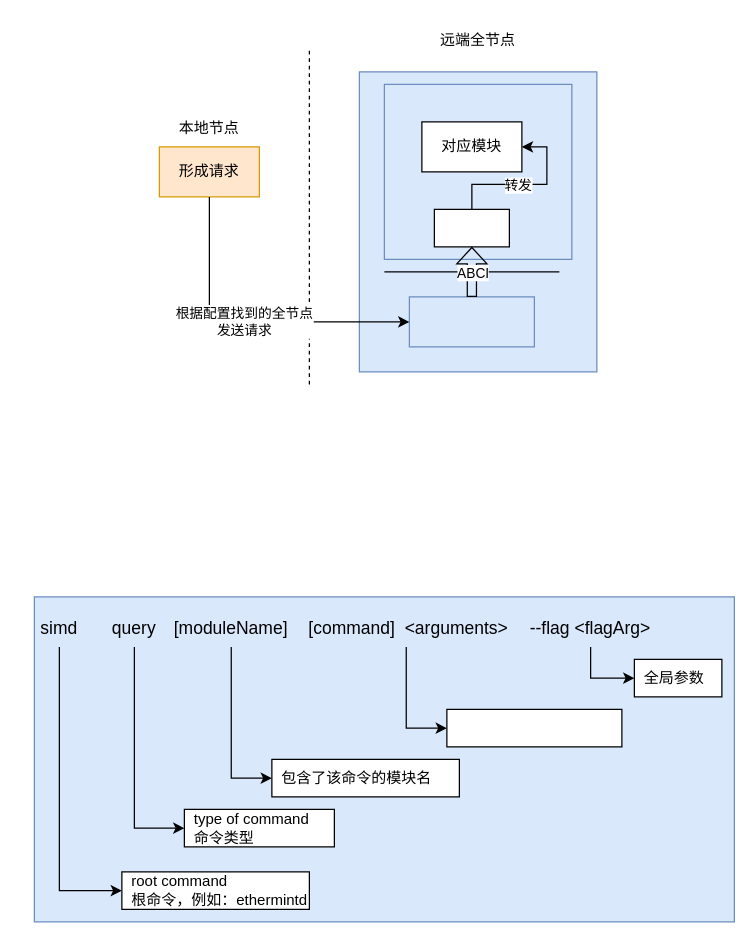
The diagram is 756 pixels wide and 944 high, and some of its shapes have lost their labels. Each missing label, with the centre of its shape:
"BaseApp" belongs at point (471, 227).
"Tendermint Core" belongs at point (471, 321).
"命令，以及命令的参数" belongs at point (534, 727).
